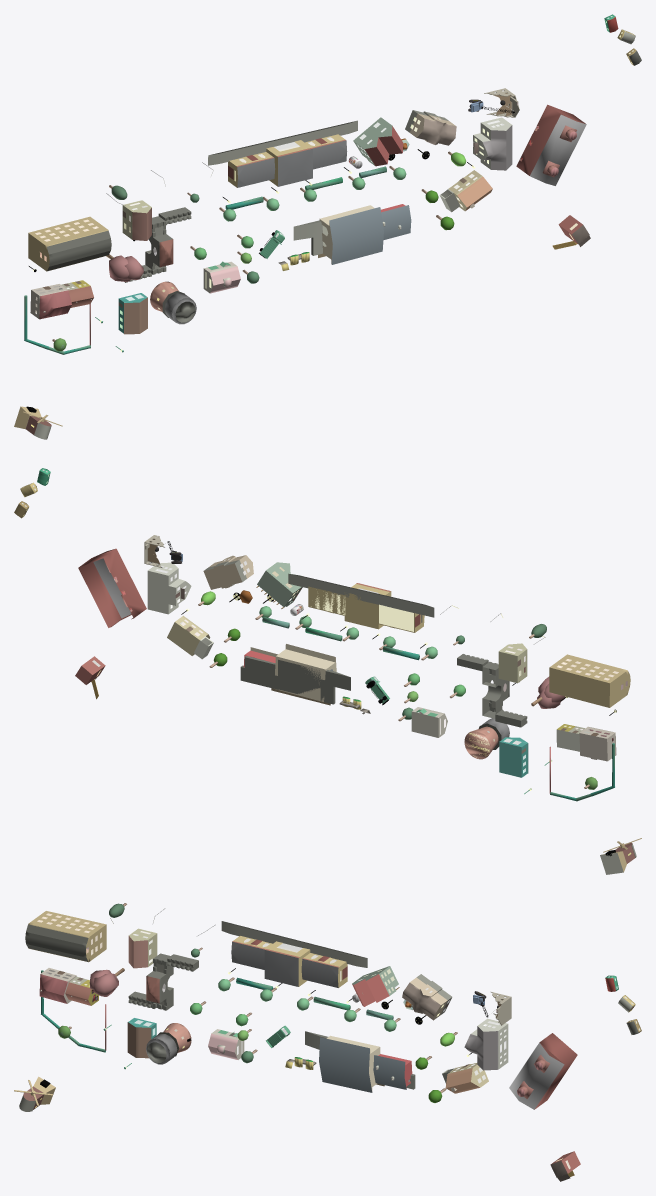
Rendered from background-3d.gltf.
3 renders of one model, top to bottom at view 1: azimuth 30°, elevation 25°; view 2: azimuth 150°, elevation 25°; view 3: azimuth 330°, elevation 25°, orthographic. The views are drawn at different scales.
Parts seen in each view (by area): view 1: Cube55, Cube42 (×2), Cube40, Cube41_sep44, Cube70 (×2), Cube47, Cube50, Cube52_sep53, Cylinder37, Cube51, Cube48, Cube43 (+3 smaller); view 2: Cube42 (×2), Cube40, Cube55, Cube41_sep44, Cube70 (×2), Cube50, Cube47, Cube52_sep53, Cylinder37, Cube51, Cube48, Cube43 (+2 smaller); view 3: Cube55, Cube42 (×2), Cube40, Cube41_sep44, Cube70 (×2), Cube50, Cube47, Cylinder37, Cube52_sep53, Cube43, Cube51, Cube48 (+5 smaller).
Boxes of the visible parts, bbox=[...] form: Cube55: bbox=[208, 120, 357, 187]; Cube42 (×2): bbox=[125, 104, 586, 282]; Cube40: bbox=[293, 204, 411, 264]; Cube41_sep44: bbox=[28, 216, 111, 271]; Cube70 (×2): bbox=[14, 110, 456, 439]; Cube47: bbox=[30, 280, 93, 319]; Cube50: bbox=[473, 117, 512, 170]; Cube52_sep53: bbox=[353, 117, 403, 166]; Cylinder37: bbox=[150, 281, 196, 324]; Cube51: bbox=[439, 170, 492, 212]; Cube48: bbox=[118, 293, 147, 334]; Cube43: bbox=[122, 200, 151, 240]; Cube42 (×2): bbox=[78, 548, 527, 727]; Cube40: bbox=[240, 644, 350, 705]; Cube55: bbox=[288, 573, 434, 632]; Cube41_sep44: bbox=[549, 654, 630, 707]; Cube70 (×2): bbox=[203, 555, 641, 874]; Cube50: bbox=[147, 562, 191, 614]; Cube47: bbox=[556, 724, 616, 761]; Cube52_sep53: bbox=[256, 562, 302, 608]; Cylinder37: bbox=[464, 718, 509, 759]; Cube51: bbox=[167, 615, 213, 659]; Cube48: bbox=[499, 737, 528, 777]; Cube43: bbox=[498, 643, 527, 683]; Cube55: bbox=[221, 921, 367, 987]; Cube42 (×2): bbox=[128, 953, 577, 1109]; Cube40: bbox=[305, 1031, 415, 1092]; Cube41_sep44: bbox=[25, 911, 106, 962]; Cube70 (×2): bbox=[14, 974, 452, 1111]; Cube50: bbox=[464, 1018, 508, 1070]; Cube47: bbox=[39, 968, 99, 1005]; Cylinder37: bbox=[146, 1023, 191, 1064]; Cube52_sep53: bbox=[352, 966, 399, 1006]; Cube43: bbox=[128, 928, 157, 968]; Cube51: bbox=[442, 1063, 488, 1093]; Cube48: bbox=[127, 1018, 156, 1058].
Size of what is drawn, in the model's own units: 0.8852 by 0.3698 by 0.0718.
38 materials, 19 textured.
